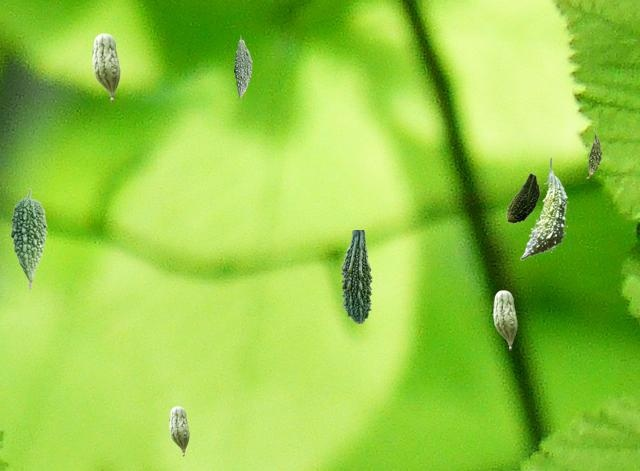ampalaya: (520, 158, 567, 259), (10, 188, 46, 289), (340, 230, 371, 322), (92, 33, 119, 101), (506, 173, 539, 222), (493, 290, 516, 349), (234, 34, 251, 97), (169, 406, 188, 455), (586, 128, 601, 177)
